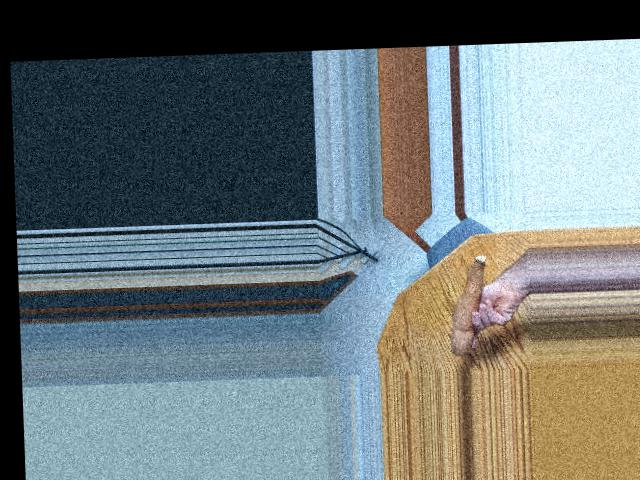sweet_potato: (446, 254, 493, 357)
